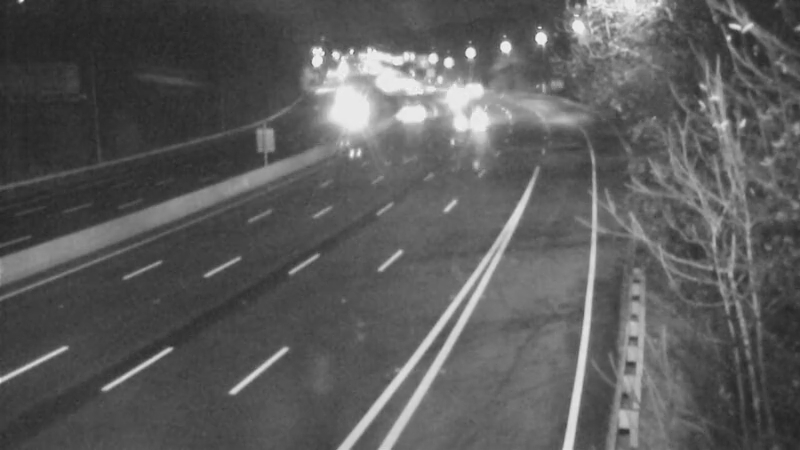vehicle: (451, 63, 501, 113), (436, 79, 486, 129), (381, 94, 431, 144), (433, 103, 483, 153), (322, 88, 372, 138)
